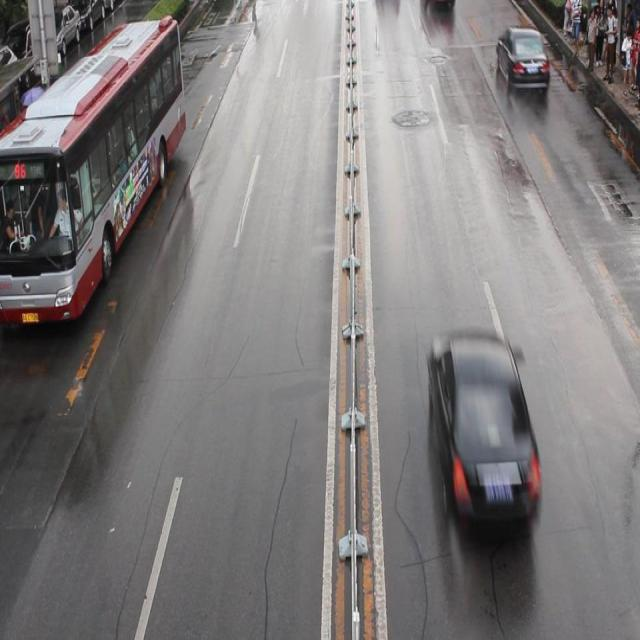car: (427, 330, 542, 532), (496, 25, 548, 86)
van: (1, 17, 186, 321)
